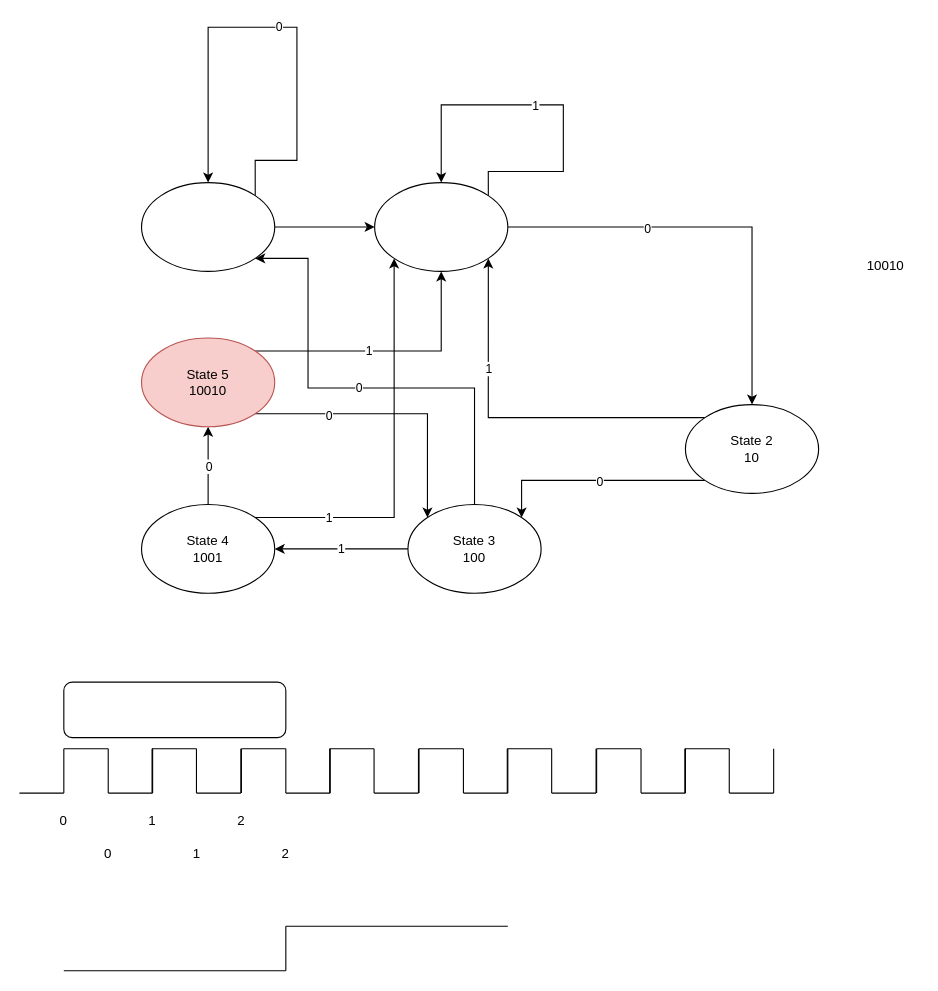
This 938x991 diagram has some shape labels left out. Each missing label, with the centre of its shape:
"State 0" goes at (207,226).
"State 1 1" goes at (441,226).
